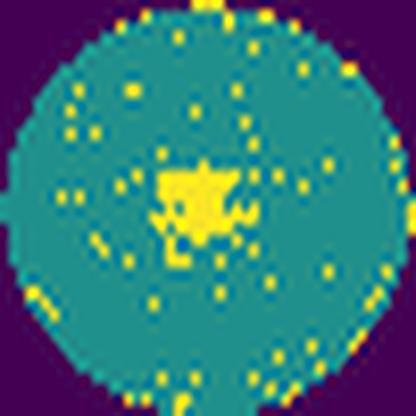Center: (152, 166, 264, 248)
